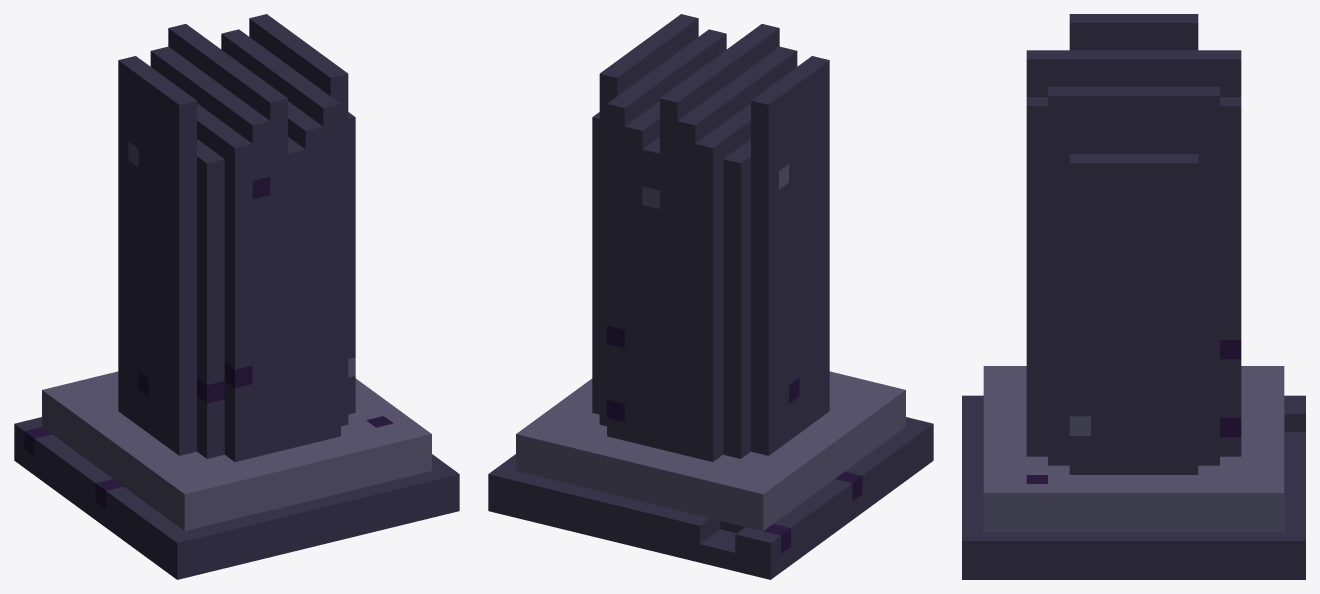
File: pillar_broken.obj
3 views of the same model, side by side, from view 1: azimuth 30°, elevation 25°; view 2: azimuth 150°, elevation 25°; view 3: azimuth 270°, elevation 25° (orthographic). The views are drawn at different scales.
Visible parts, largest first — view 1: pillar_broken; view 2: pillar_broken; view 3: pillar_broken.
Boxes of the visible parts, bbox=[...] form: pillar_broken: bbox=[14, 14, 459, 579]; pillar_broken: bbox=[488, 14, 933, 579]; pillar_broken: bbox=[962, 14, 1305, 579].
Bounding box in the file's own units: 1 × 1.44 × 1.
1 material, 1 textured.
